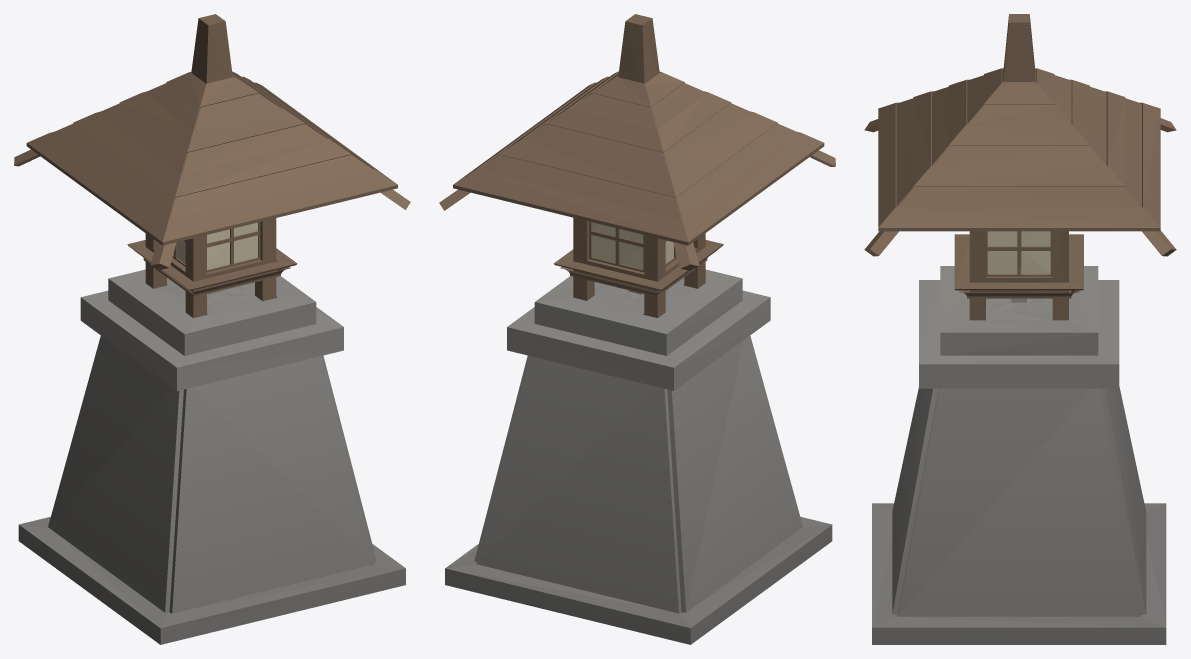
The model's file is cn_lamp_4.glb.
The picture shows the model from 3 angles, left to right: view 1: azimuth 30°, elevation 25°; view 2: azimuth 150°, elevation 25°; view 3: azimuth 270°, elevation 25°; orthographic projection. The views are drawn at different scales.
Parts seen in each view (by area): view 1: cn_lamp_4; view 2: cn_lamp_4; view 3: cn_lamp_4.
Boxes of the visible parts, x1,y1,x2,y2 form: cn_lamp_4: (14,14,410,644); cn_lamp_4: (439,14,835,644); cn_lamp_4: (864,14,1176,644).
Bounding box in the file's own units: 0.9534 × 1.9 × 0.9534.
